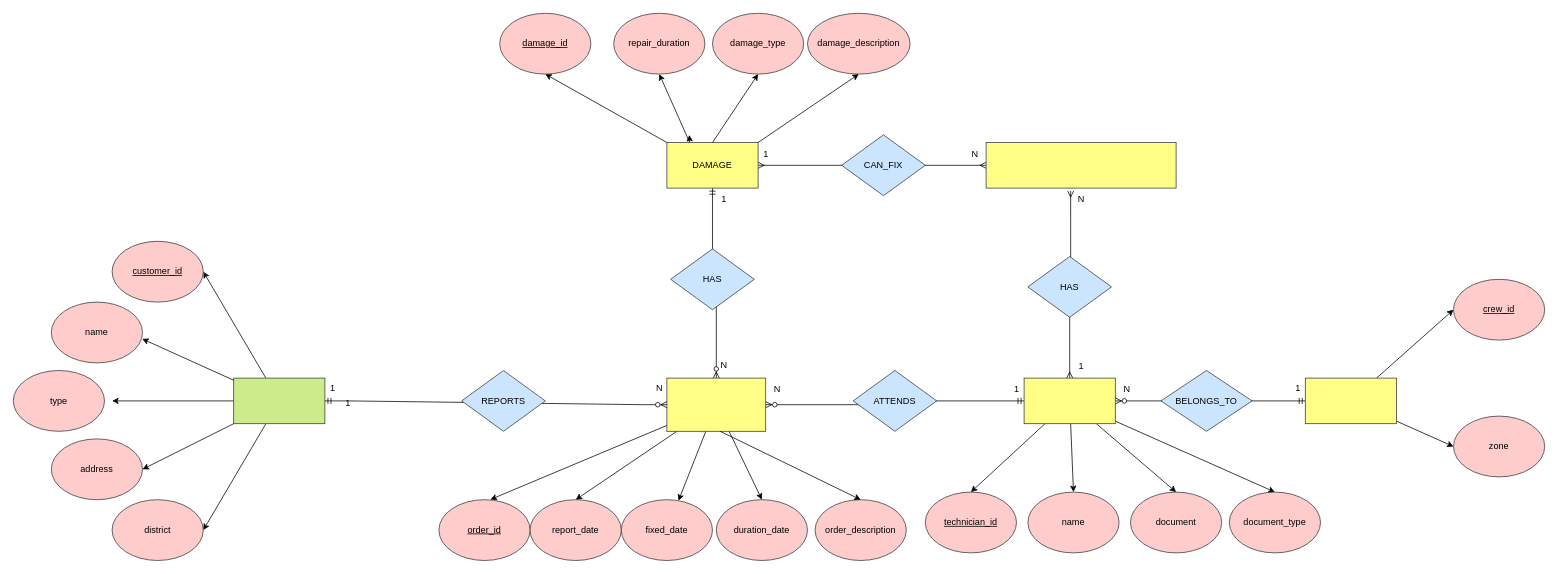
Some shapes in this 1558 by 574 pixel diagram are drawn without their labels. Here are the shapes that lost their labels. From the top down, the centre of each, then its label:
At point (1080, 165): "TECHNICIAN_SPECIALITY".
At point (279, 400): "CUSTOMER".
At point (716, 404): "ATTENTION_ORDER".
At point (1069, 400): "TECHNICIAN".
At point (1350, 400): "CREW".
